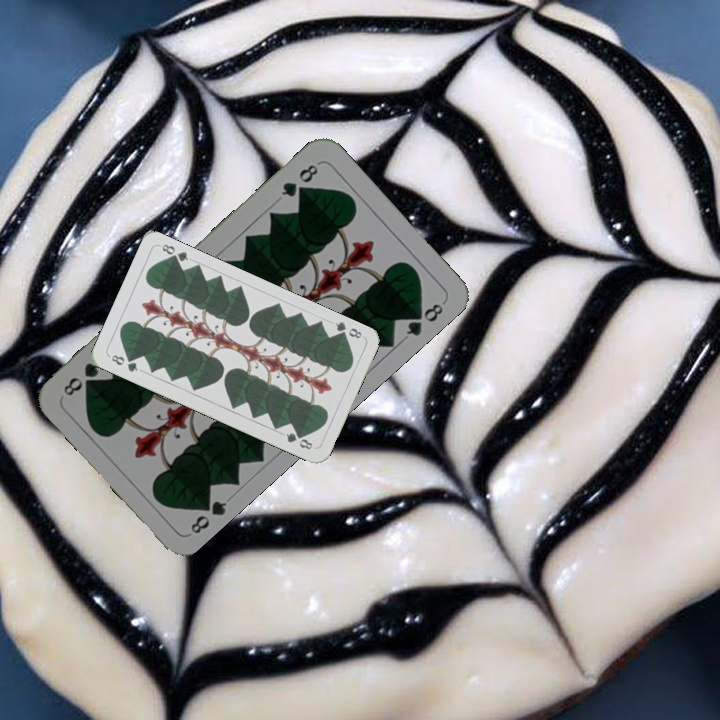G8: (186, 492, 229, 537), (277, 160, 321, 200), (331, 317, 364, 342), (107, 351, 140, 374)
